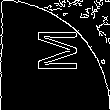M_W: (29, 31, 81, 79)
